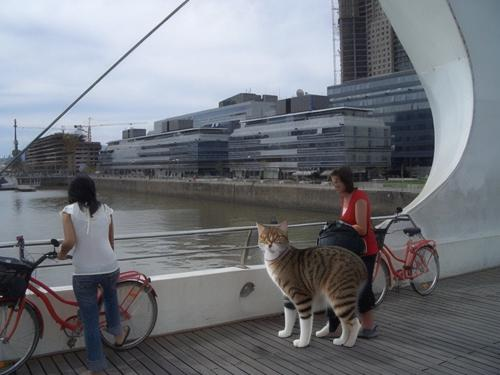bicycle: (1, 236, 165, 374), (369, 208, 446, 308)
cat: (252, 220, 368, 347)
person: (55, 174, 134, 375), (325, 169, 387, 344)
person/foot: (354, 326, 379, 341), (115, 326, 131, 347), (339, 325, 360, 336)
person/hand: (327, 229, 340, 242), (326, 243, 338, 250), (57, 253, 67, 260)
person/head: (69, 175, 97, 203), (332, 169, 352, 193)
